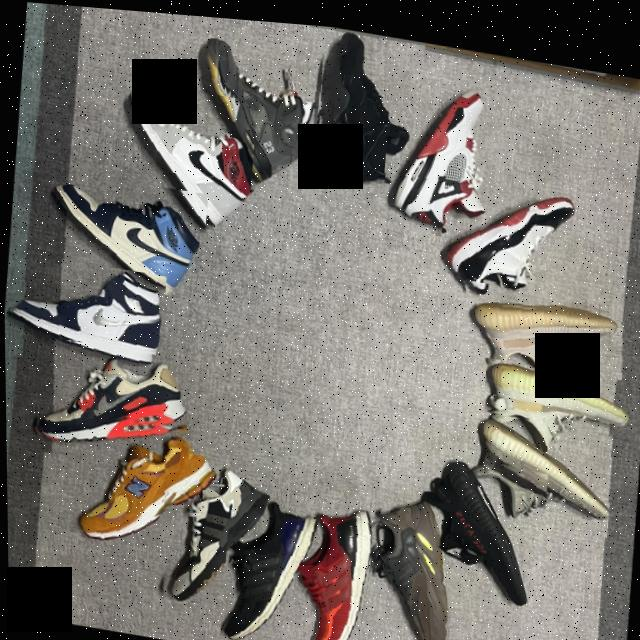shoe: (176, 20, 326, 199), (67, 404, 222, 568), (107, 75, 259, 237), (26, 333, 191, 473), (297, 19, 427, 195), (412, 438, 549, 603), (42, 166, 208, 302), (434, 156, 581, 309), (376, 64, 504, 237), (150, 446, 274, 622), (456, 399, 620, 529), (3, 249, 166, 377), (469, 347, 640, 464), (456, 270, 627, 384), (353, 475, 462, 640), (215, 479, 322, 640), (282, 486, 381, 640)
